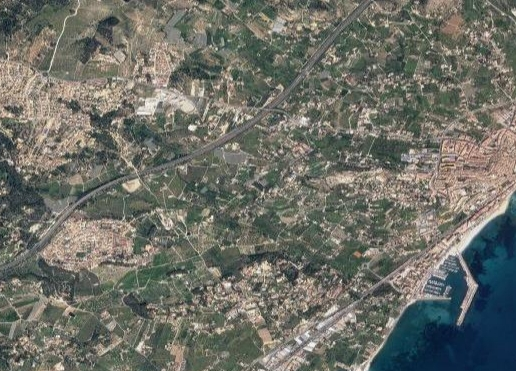harbor: (416, 251, 479, 327)
industrial: (135, 71, 197, 119), (265, 325, 318, 371)
motorway: (136, 133, 228, 175), (1, 215, 62, 273), (61, 170, 137, 216), (230, 82, 288, 137), (291, 37, 332, 86), (333, 1, 369, 36)
